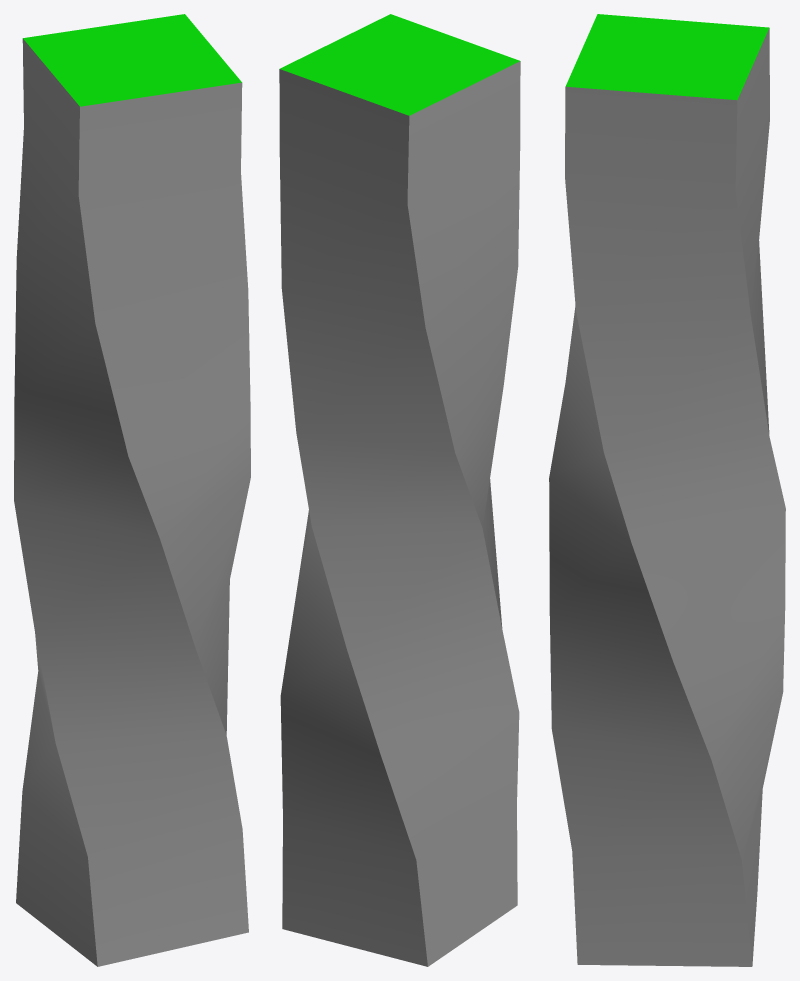
File: Building_Twisted.fbx
3 views of the same model, side by side, from view 1: azimuth 30°, elevation 25°; view 2: azimuth 150°, elevation 25°; view 3: azimuth 270°, elevation 25° (orthographic). The views are drawn at different scales.
Parts seen in each view (by area): view 1: pCube2; view 2: pCube2; view 3: pCube2.
Part boxes in pixels (x1,y1,x2,y2): pCube2: (14, 14, 250, 966); pCube2: (279, 14, 520, 966); pCube2: (549, 14, 785, 966).
Size of the model in its own units: 1353 by 5499 by 1353.
